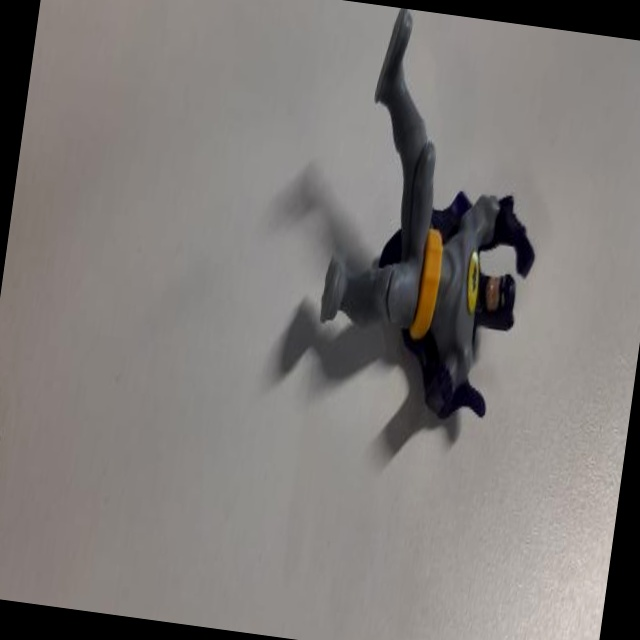Batman: (297, 4, 564, 445)
